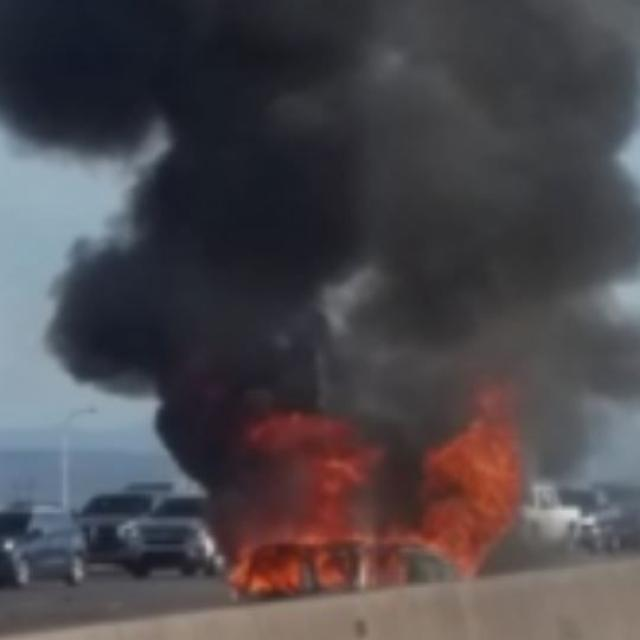Fire: (229, 388, 538, 598)
